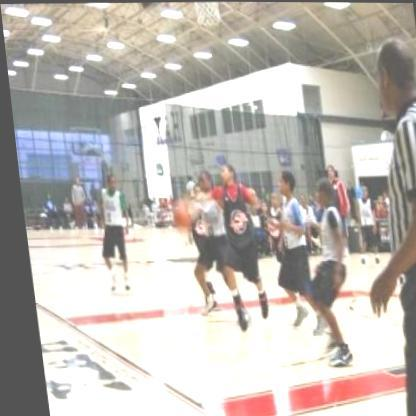basketball: (161, 195, 194, 230)
